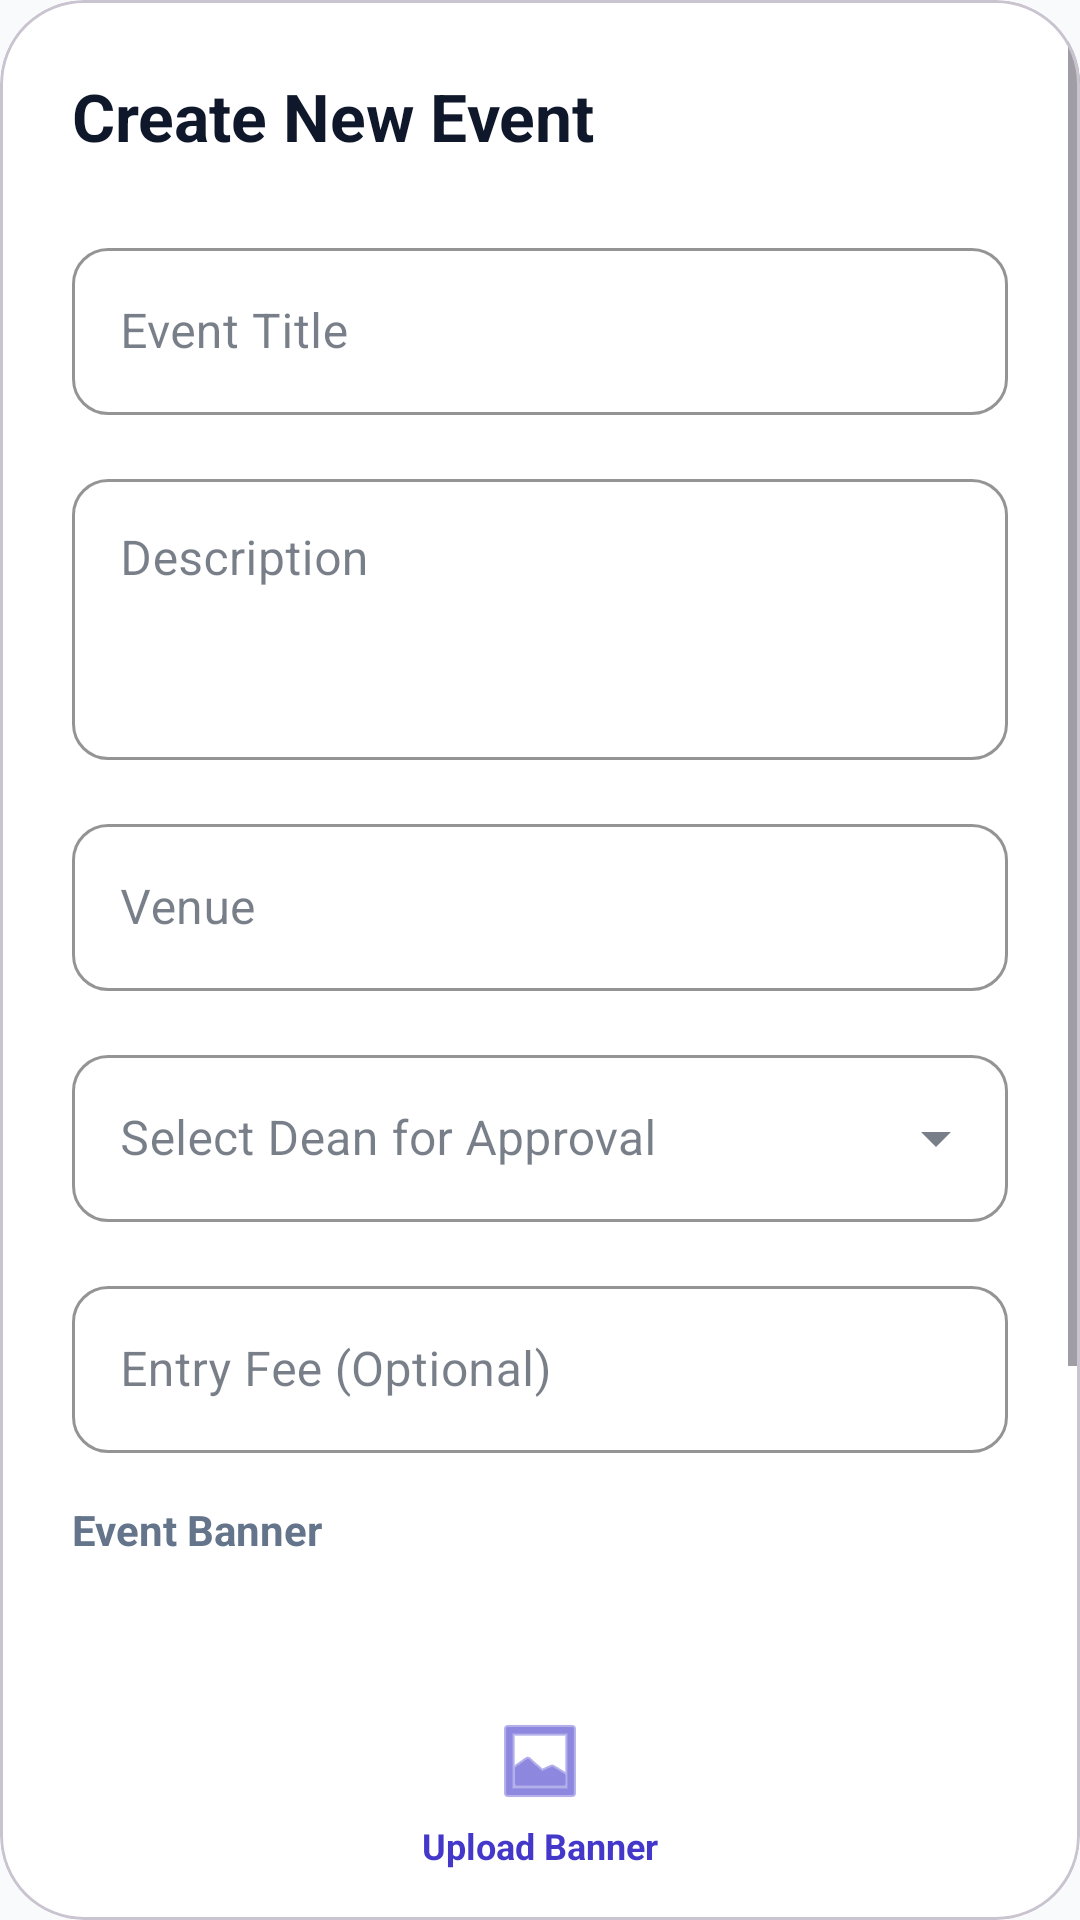

Screen size 1080px×1920px. Icon name, then its box in pixels as {"left": x1, "top": y1, "right": x2, "bottom": y2}:
Gallery Icon: {"left": 504, "top": 1725, "right": 576, "bottom": 1797}
